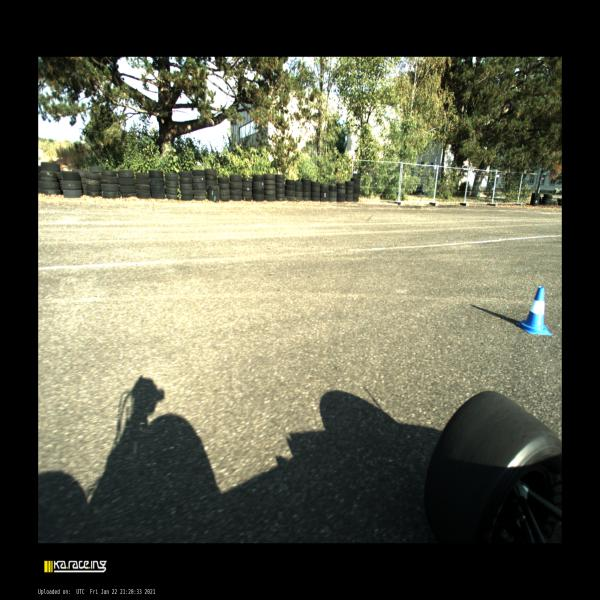blue_cone: (516, 286, 552, 335)
